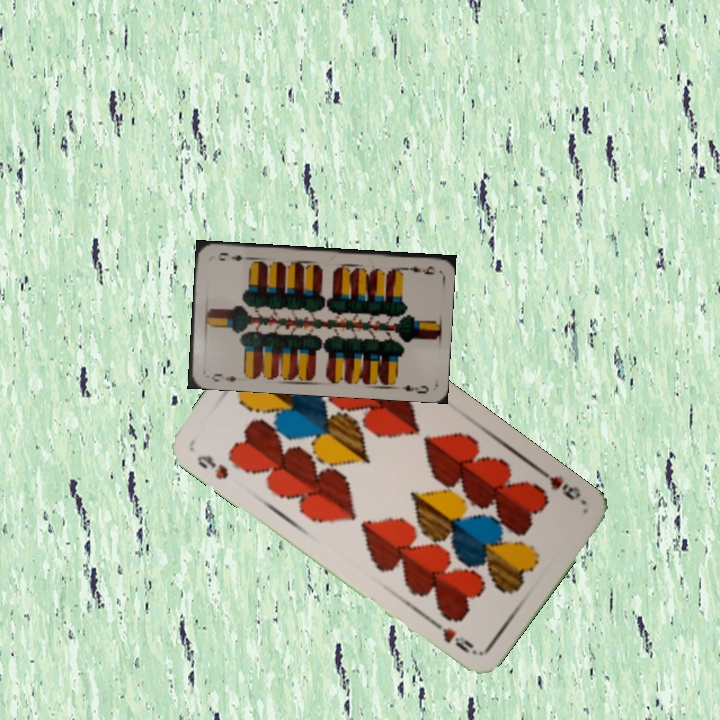E9: (398, 262, 439, 277), (208, 369, 239, 384)
H9: (535, 465, 587, 507), (192, 450, 231, 482)
